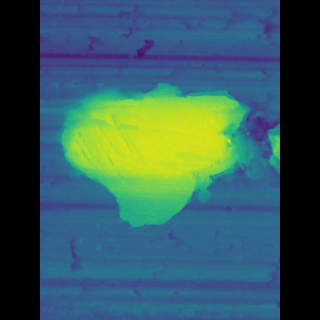Loch: (83, 82, 226, 228)
